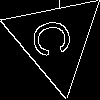C: (30, 15, 82, 60)
